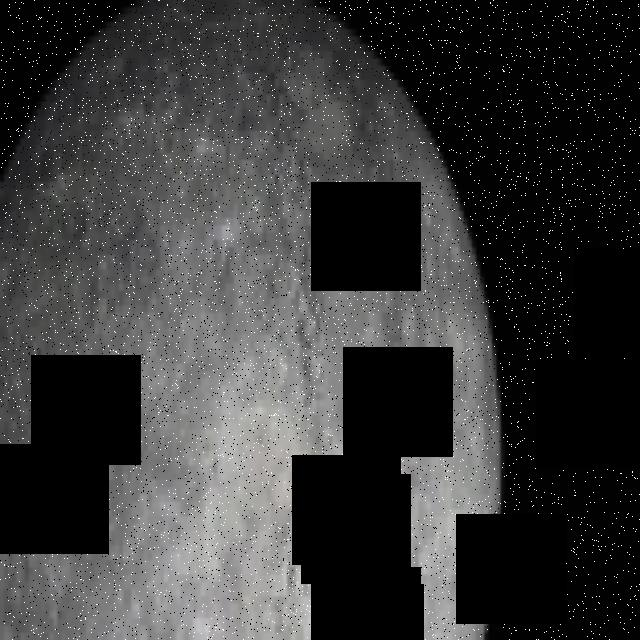Mercury: (1, 0, 500, 640)
